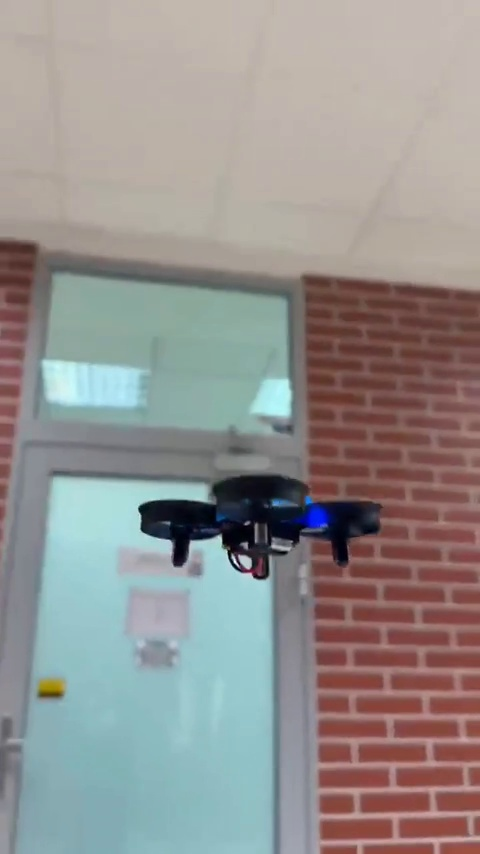drone: (138, 476, 382, 578)
